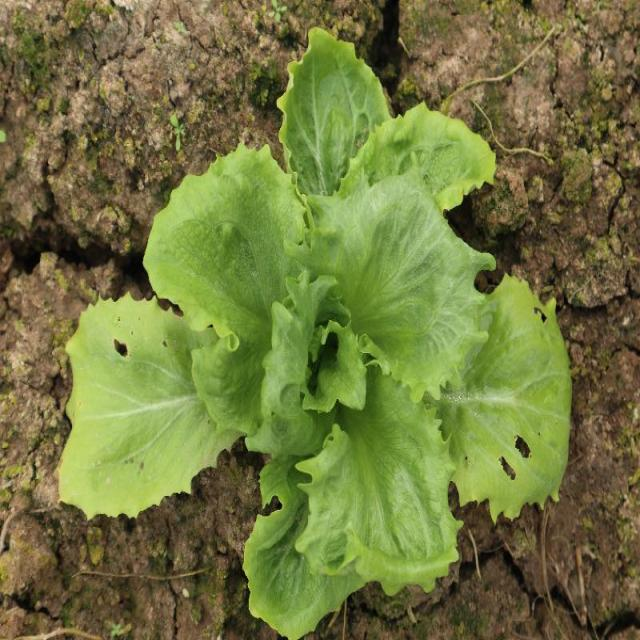crop: (58, 25, 573, 640)
